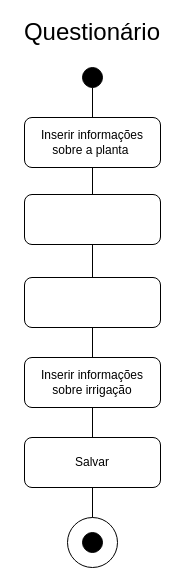
This 184x585 diagram has some shape labels left out. The shapes that lost their labels are listed below. From the top down, each one's box as (x1, y1, x2, y2) in pixels, then its label:
(24, 194, 160, 244): Verificar c ondições de luz
(24, 276, 160, 328): Inserir previsão de colheita
